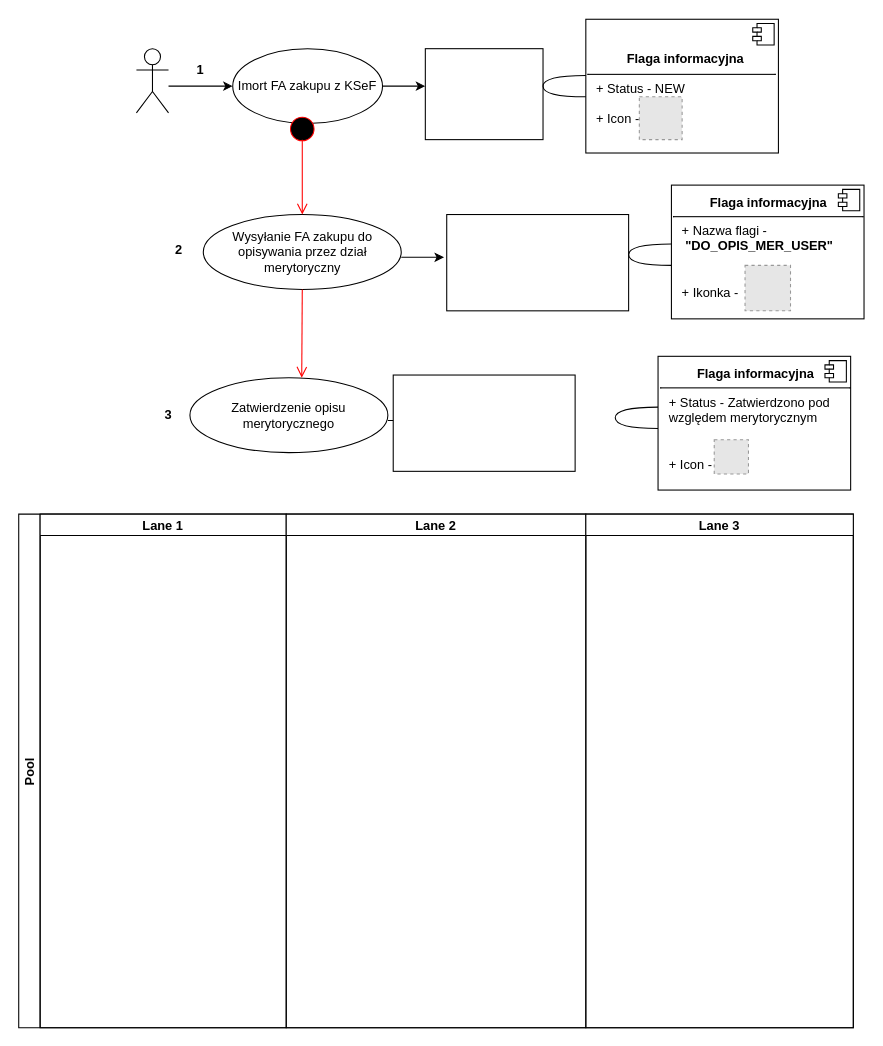
The diagram is 883 pixels wide and 1046 high, and some of its shapes have lost their labels. Grey dashed boxes stand in for pictures. The shapes that lost their labels are listed below. From the top down, each one's centre as x and y in pixels, then its label:
[152,80]: User
[483,94]: «interface» Automatycznie ustawiona Flaga "NOWA"
[537,262]: «interface» Użytkownik wybiera Status Do opisu pod względem merytorycznym
[483,422]: «interface» Użytkownik wybiera Flagę "ZATW_MER_USER"
